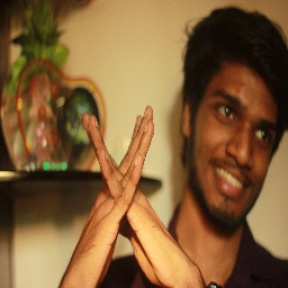W: (67, 99, 194, 285)
